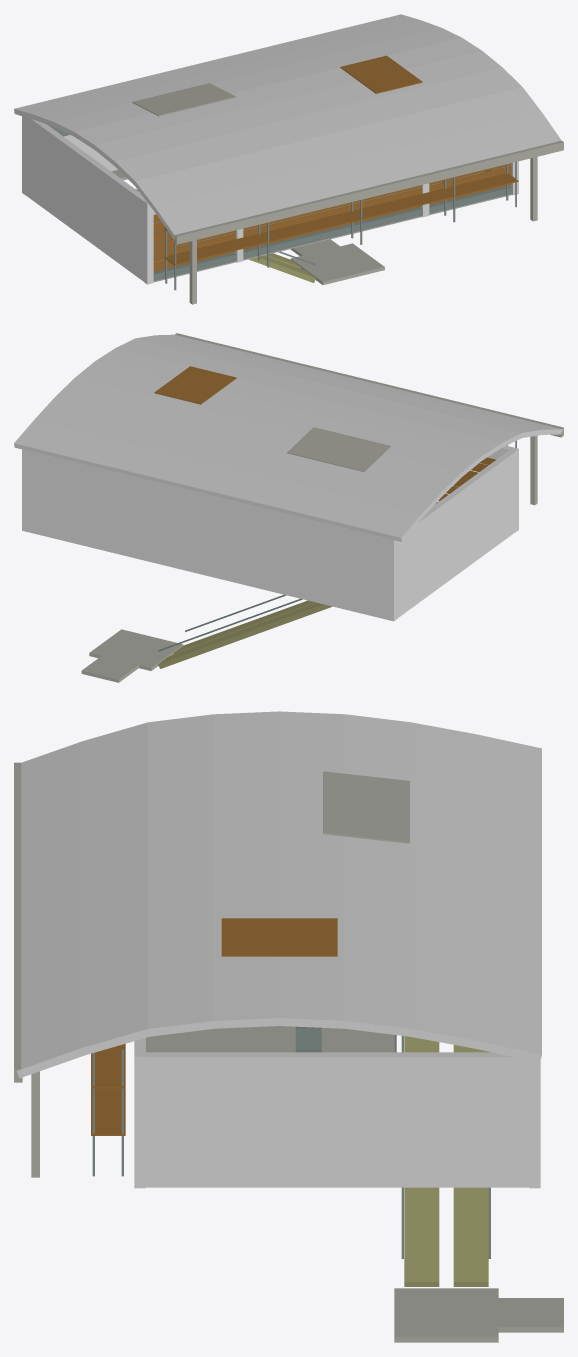
File: SM_VestibuloCastellon_v4_Liberada_LOD0.fbx
3 renders of one model, top to bottom at view 1: azimuth 30°, elevation 25°; view 2: azimuth 150°, elevation 25°; view 3: azimuth 270°, elevation 25°, orthographic. The views are drawn at different scales.
Parts seen in each view (by area): view 1: Cubierta, SM_vestibulo_castellon_v4_LOD0; view 2: Cubierta, SM_vestibulo_castellon_v4_LOD0; view 3: Cubierta, SM_vestibulo_castellon_v4_LOD0.
Boxes of the visible parts, box(x1,y1,x2,y2) form: Cubierta: box(14, 14, 563, 304); SM_vestibulo_castellon_v4_LOD0: box(22, 116, 518, 290); Cubierta: box(14, 333, 563, 541); SM_vestibulo_castellon_v4_LOD0: box(22, 440, 518, 682); Cubierta: box(14, 711, 541, 1177); SM_vestibulo_castellon_v4_LOD0: box(91, 1026, 563, 1342).
Size of the model in its own units: 25 by 14.26 by 18.95.
